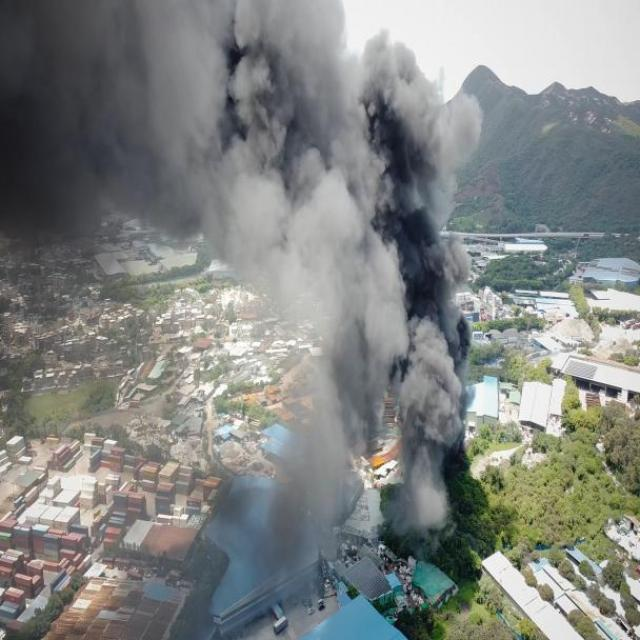Smoke: (0, 0, 472, 254), (266, 258, 462, 548)
